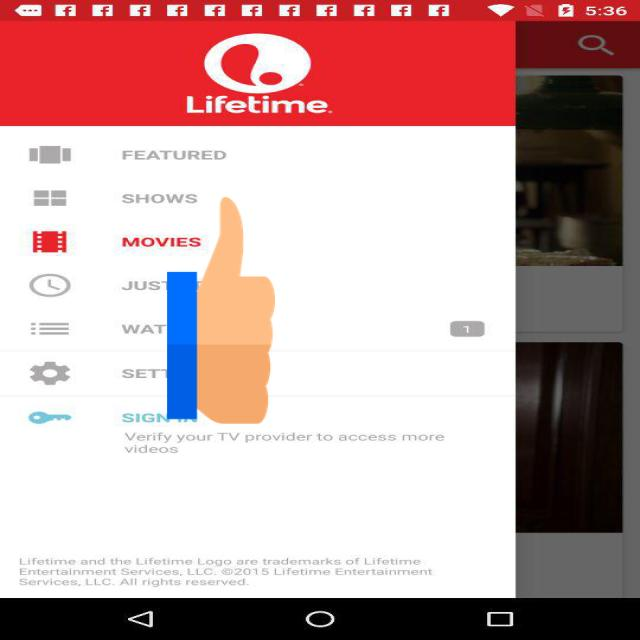privacy zuckering: (167, 192, 275, 430)
